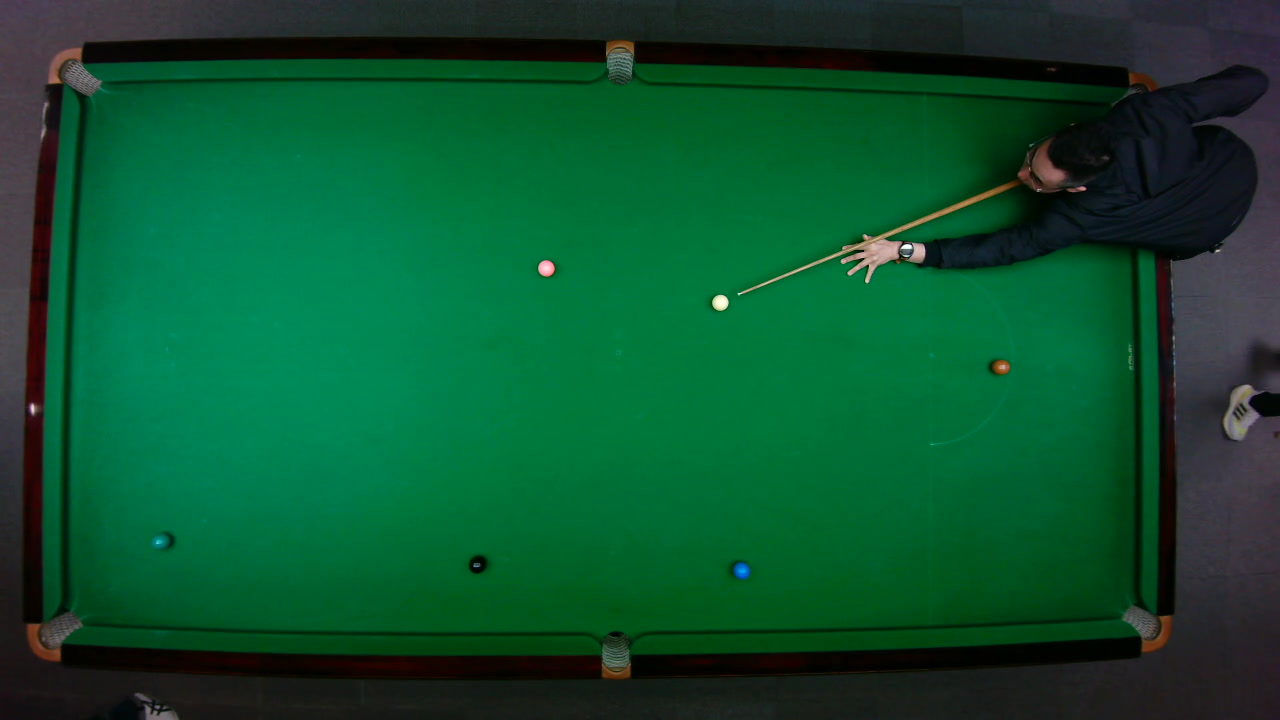bag: (25, 609, 83, 661), (46, 46, 102, 96), (1120, 603, 1172, 652), (600, 629, 630, 680), (605, 38, 633, 85)
black: (467, 554, 485, 573)
blue: (731, 560, 750, 579)
brown: (990, 358, 1010, 374)
cue: (737, 174, 1024, 296)
green: (150, 531, 171, 550)
pink: (536, 258, 555, 277)
white: (710, 293, 729, 311)
zone: (925, 268, 1012, 445)
